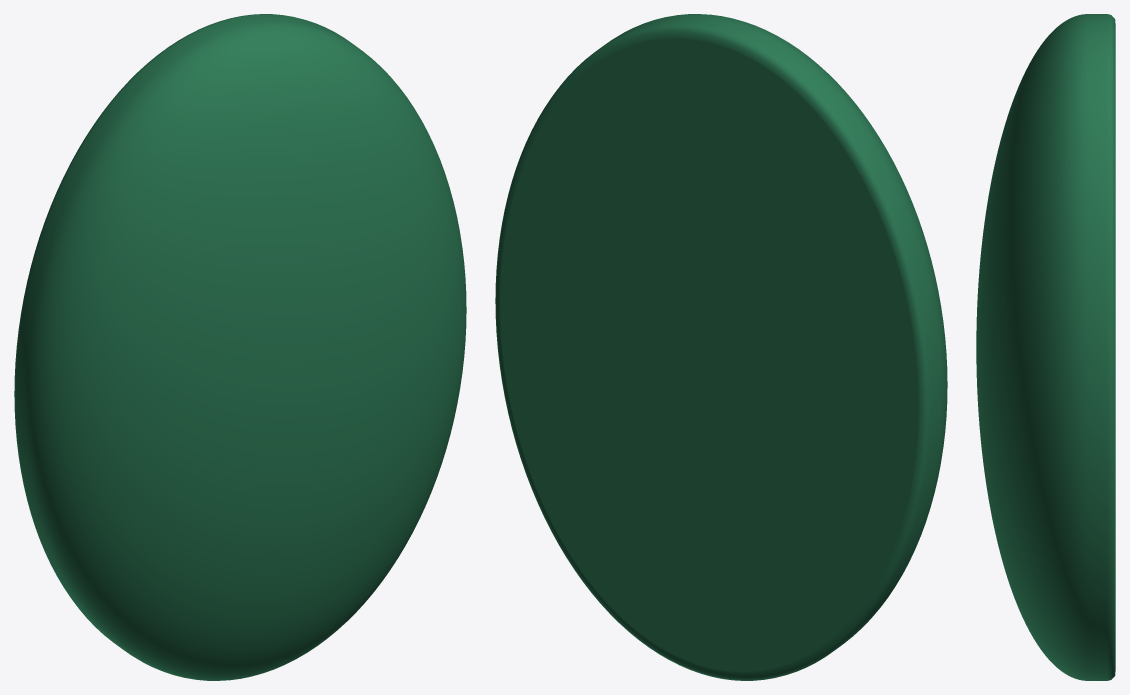
The model's file is oval.glb.
3 views of the same model, side by side, from view 1: azimuth 30°, elevation 25°; view 2: azimuth 150°, elevation 25°; view 3: azimuth 270°, elevation 25° (orthographic). The views are drawn at different scales.
Parts seen in each view (by area): view 1: Oval Cabochon 20x14x4mm; view 2: Oval Cabochon 20x14x4mm; view 3: Oval Cabochon 20x14x4mm.
Boxes of the visible parts, left/top/right/bottom form: Oval Cabochon 20x14x4mm: left=14, top=14, right=466, bottom=680; Oval Cabochon 20x14x4mm: left=495, top=14, right=947, bottom=680; Oval Cabochon 20x14x4mm: left=976, top=14, right=1115, bottom=680.
Bounding box in the file's own units: 0.014 × 0.02 × 0.00398.
